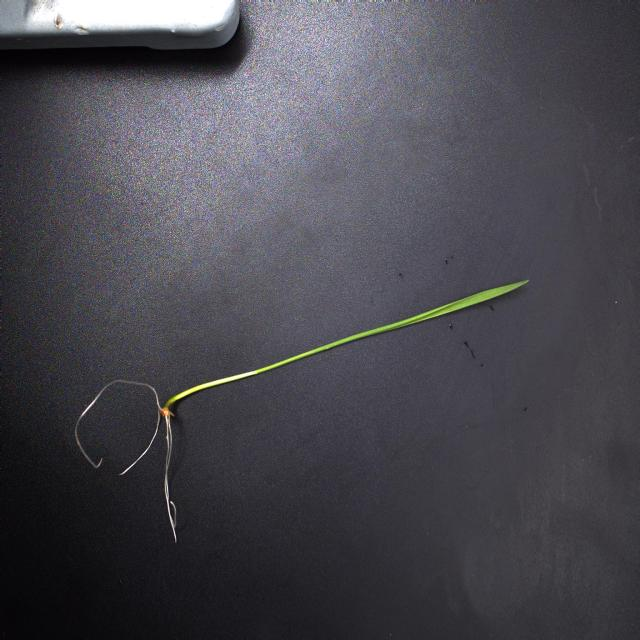leaf: (260, 280, 532, 374)
root: (74, 378, 179, 543)
stem: (164, 370, 260, 407)
